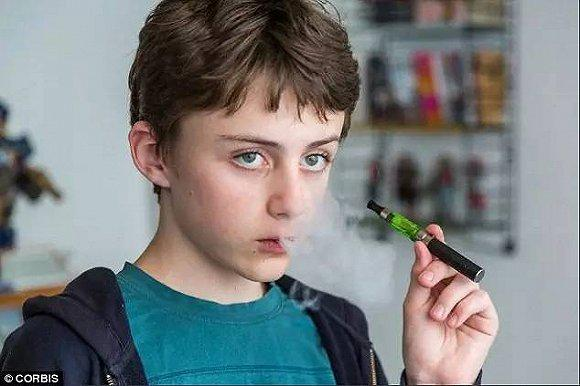smoking: (362, 194, 497, 293)
